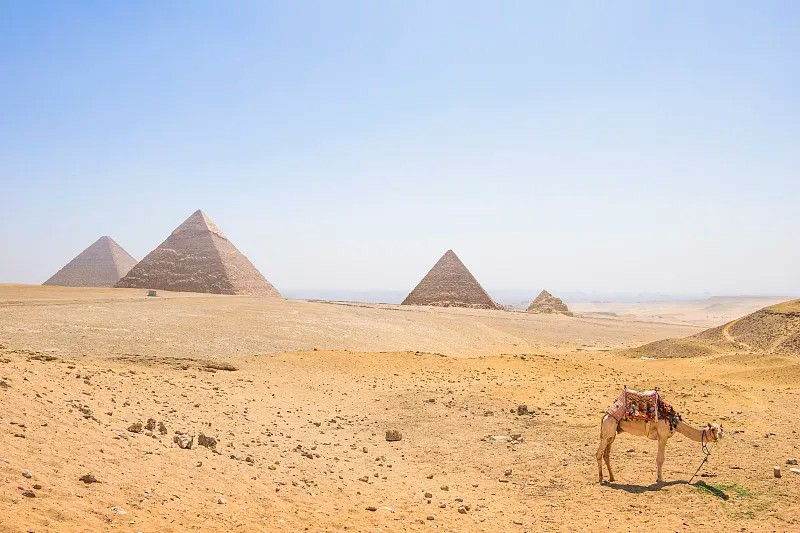Pyramid: (113, 209, 281, 299), (402, 248, 502, 312), (44, 236, 136, 289), (526, 291, 570, 315)
